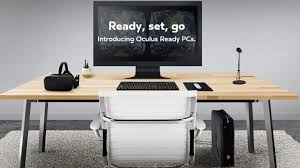oculus: (43, 71, 78, 93)
